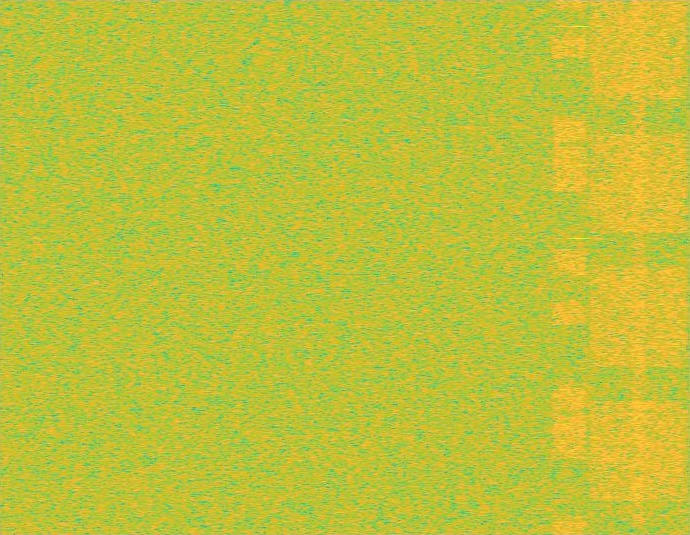5G: (587, 0, 689, 534)
DSSS: (632, 0, 646, 534)
LTE: (552, 0, 587, 534)
Radar: (572, 0, 585, 534)
